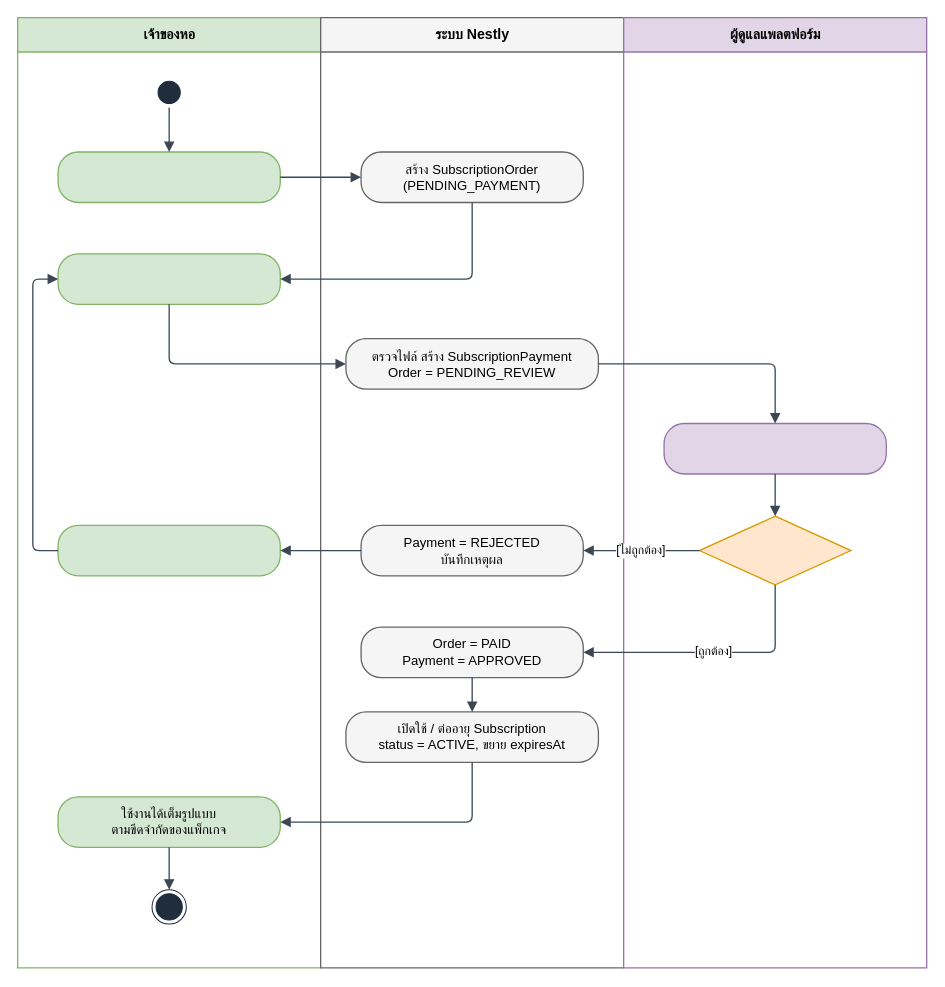
This 945x987 diagram has some shape labels left out. The shapes that lost their labels are listed below. From the top down, each one's centre as x and y in pixels, then its label:
At point 168,177: "เปรียบเทียบและเลือก แพ็กเกจ / รอบชำระ".
At point 168,279: "โอนเงินและ อัปโหลดหลักฐาน".
At point 774,448: "ตรวจหลักฐานการชำระ".
At point 168,550: "เห็นเหตุผล แล้วส่งหลักฐานใหม่".
At point 774,550: "ถูกต้อง?".
